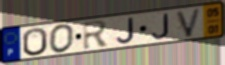J: (115, 17, 136, 45), (151, 12, 171, 41)
O: (48, 22, 76, 54), (22, 27, 50, 58)
R: (82, 19, 111, 51)
V: (175, 7, 203, 39)
